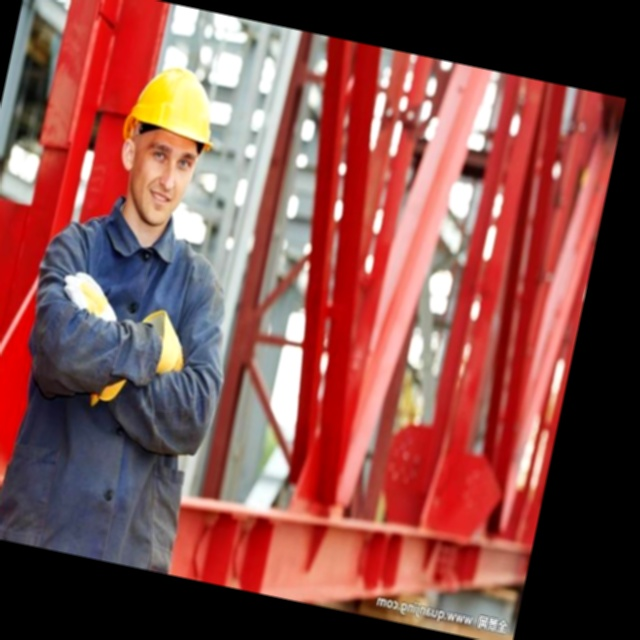Con_Casco: (110, 61, 215, 229)
Sin_Chaleco: (0, 210, 237, 565)
